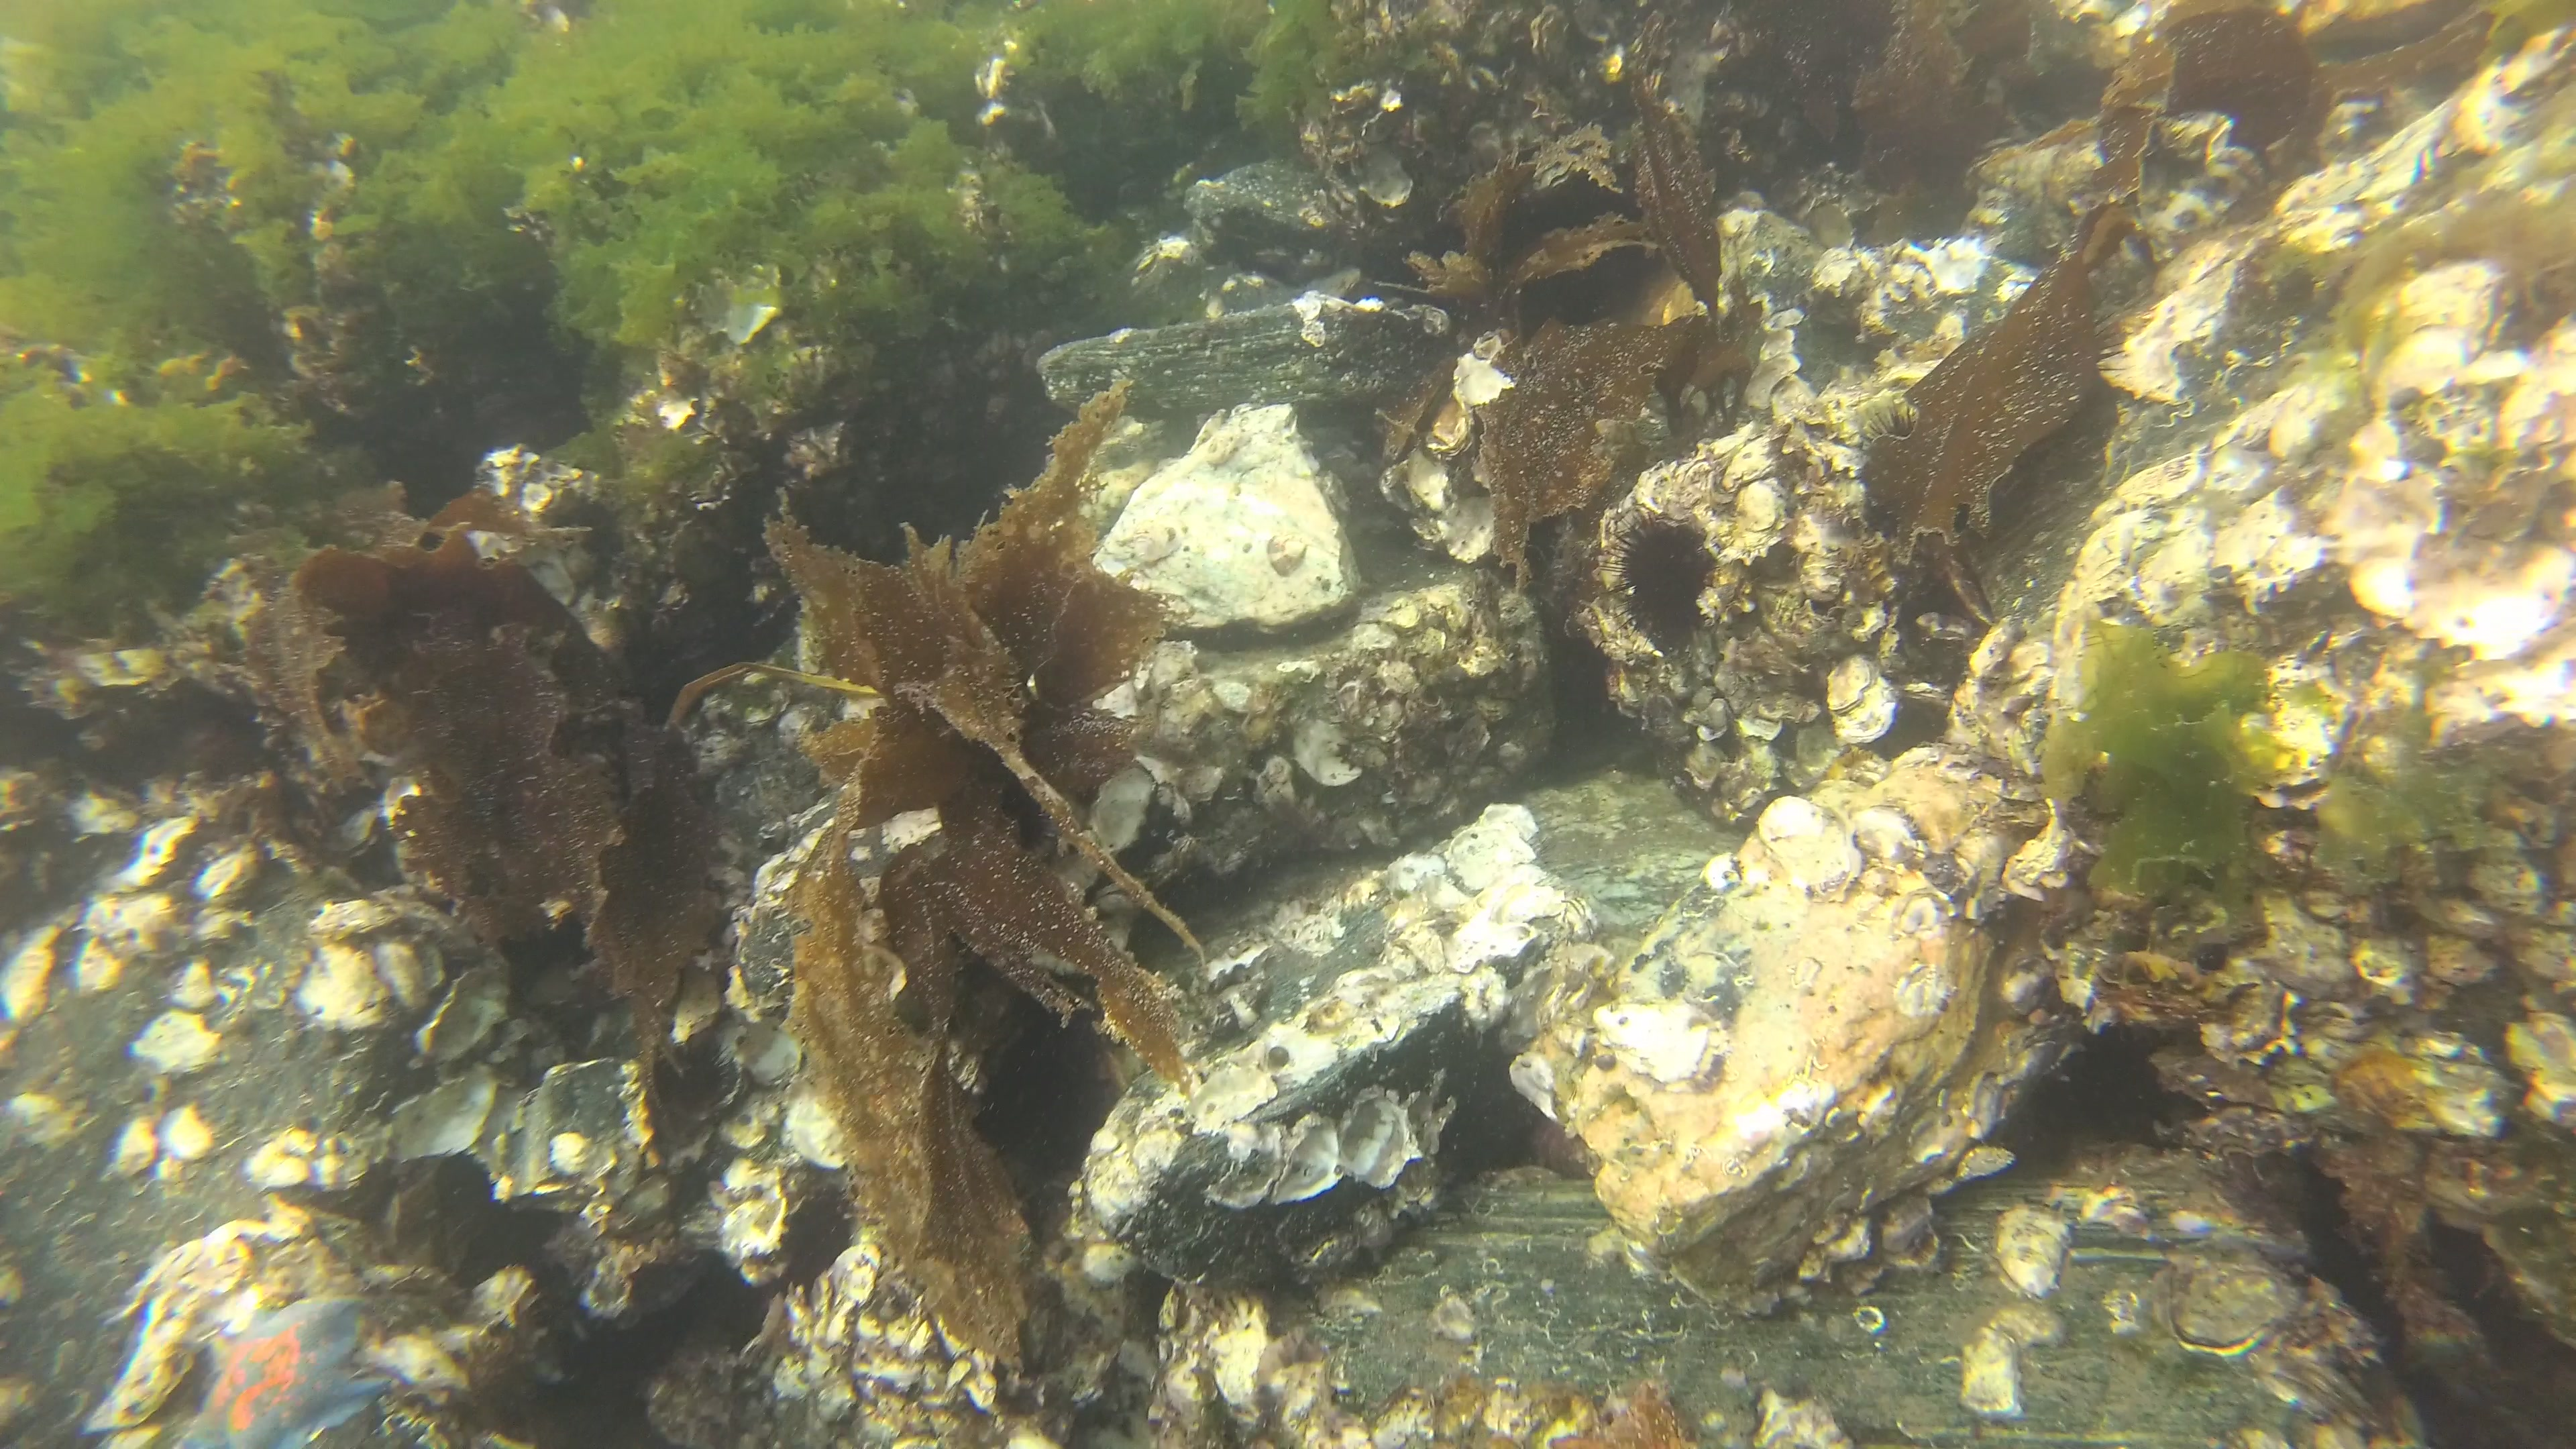echinus: (1599, 508, 1727, 649), (1845, 414, 1941, 533)
starfish: (173, 1297, 396, 1449)
